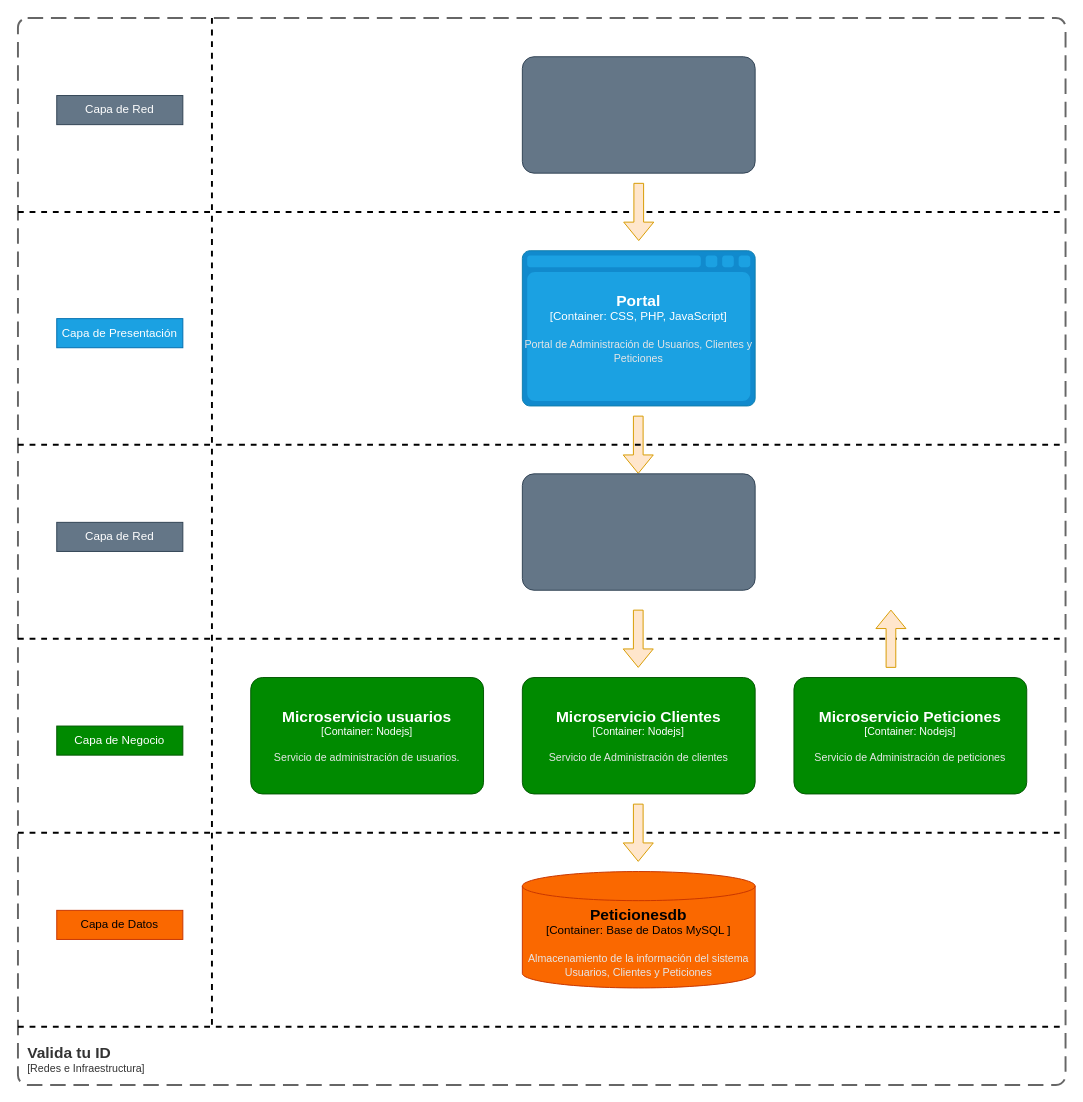
Some shapes in this 1083 by 1102 pixel diagram are drawn without their labels. The shapes that lost their labels are listed below. From the top down, each one's centre as x and y in pixels, then its label:
At pixel 638 114: "Balanceadorw [Container: haproxy] Balanceadorw".
At pixel 638 531: "Balanceadors1 y Balanceadors2 [Container: haproxy] Balanceadors1 y Balanceadors2".
